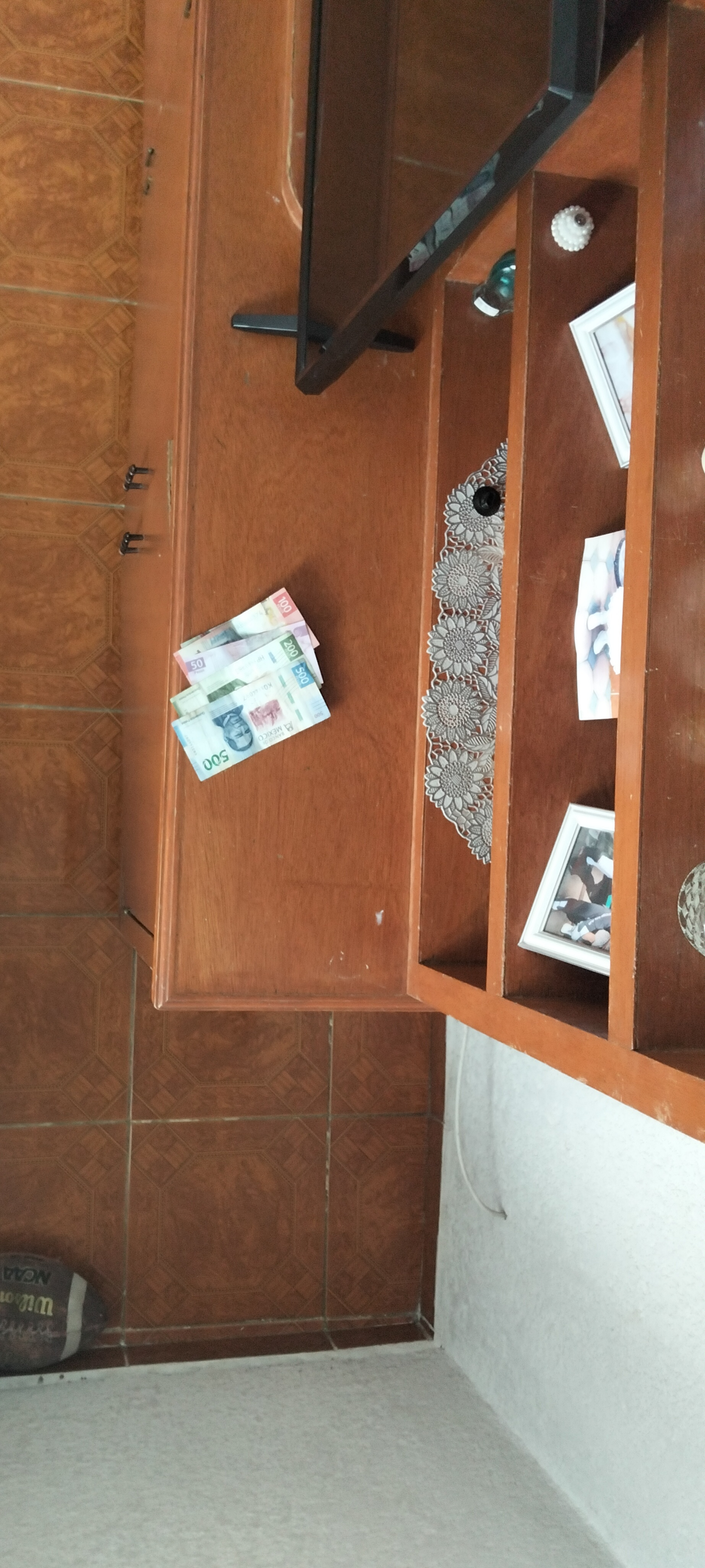billetes: (148, 573, 370, 802)
